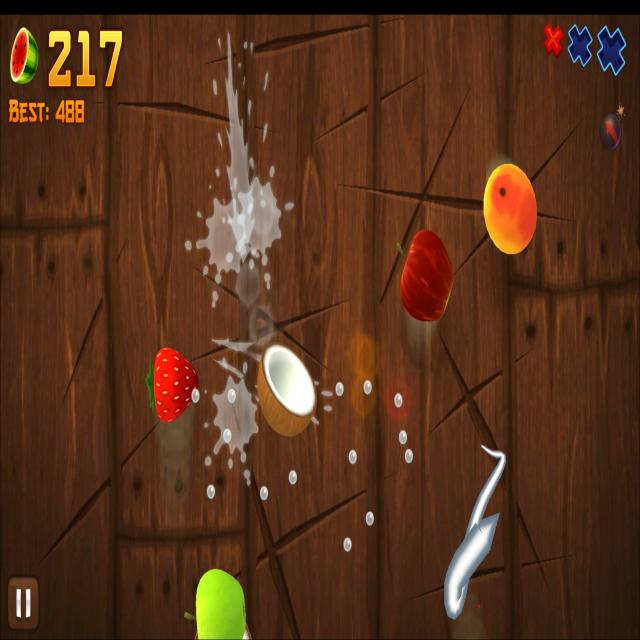fruit: (399, 228, 454, 323), (483, 162, 538, 256), (196, 566, 246, 640), (154, 346, 198, 426)
